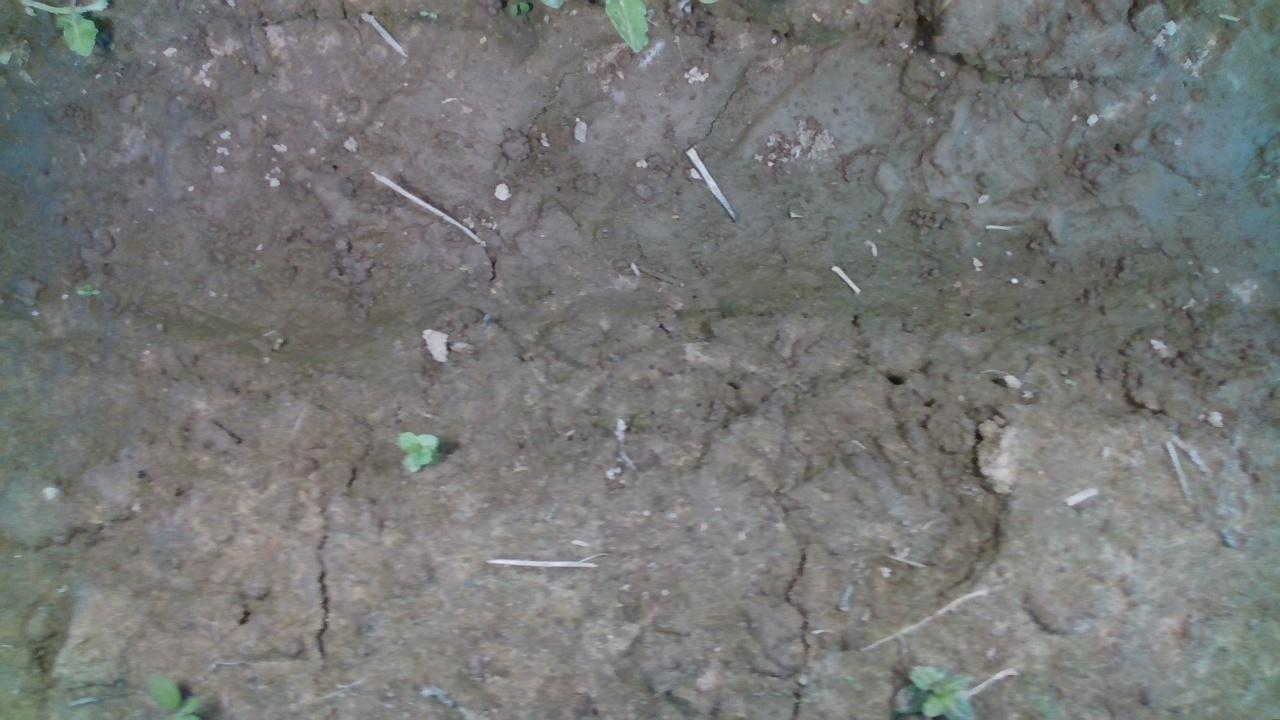weed: (1058, 371, 1091, 390), (71, 279, 95, 299)
